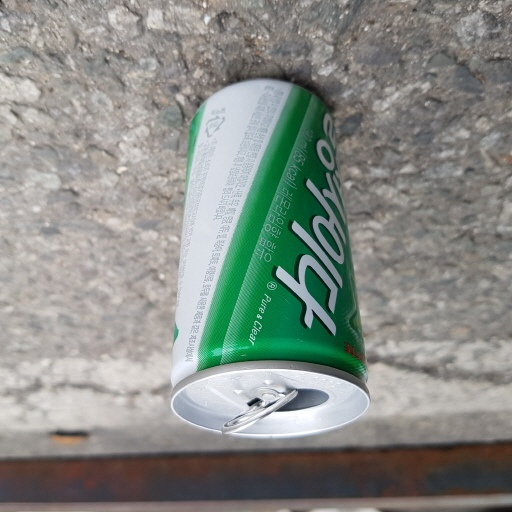Metal_0: (163, 81, 373, 439)
